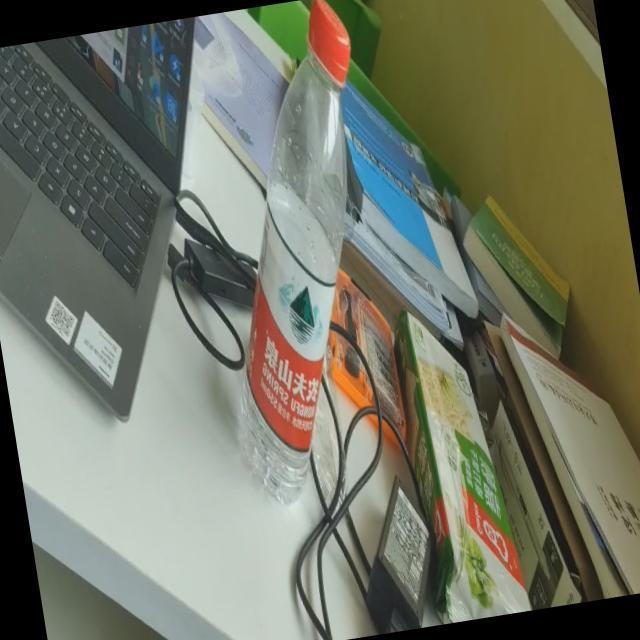good: (177, 0, 421, 503)
